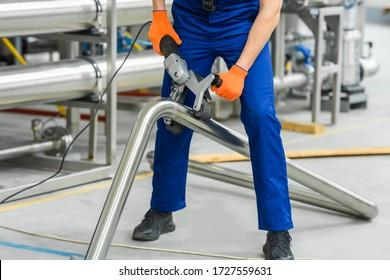gloves: (147, 9, 183, 56), (210, 65, 249, 102)
